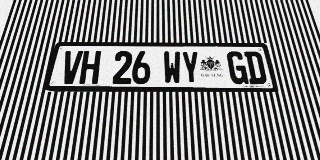2: (112, 51, 133, 84)
6: (132, 51, 150, 84)
D: (244, 51, 268, 84)
G: (226, 51, 249, 84)
H: (79, 51, 101, 84)
V: (59, 51, 83, 84)
W: (163, 51, 182, 84)
Y: (181, 51, 201, 84)
